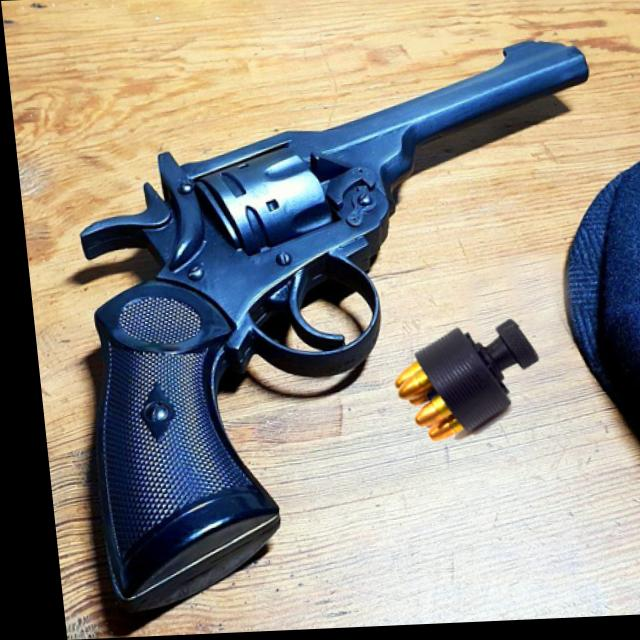handgun: (40, 35, 624, 614)
